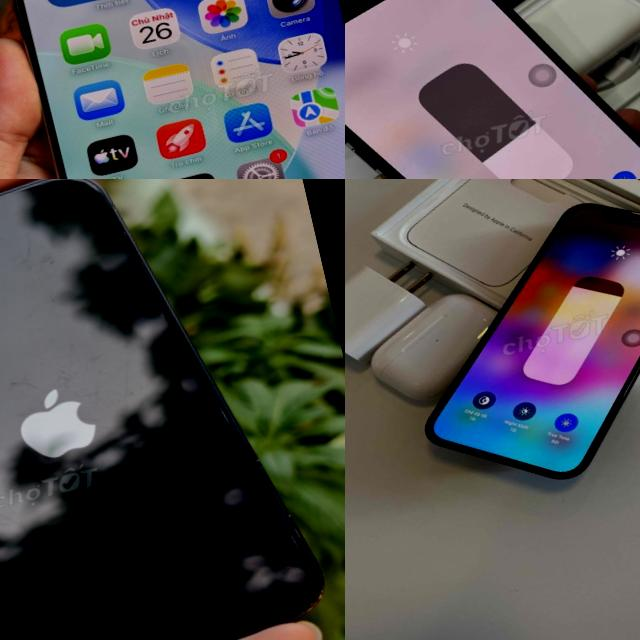gen_12_13: (0, 179, 339, 640), (377, 179, 640, 510), (345, 0, 640, 179)
gen_16: (0, 0, 345, 179)
